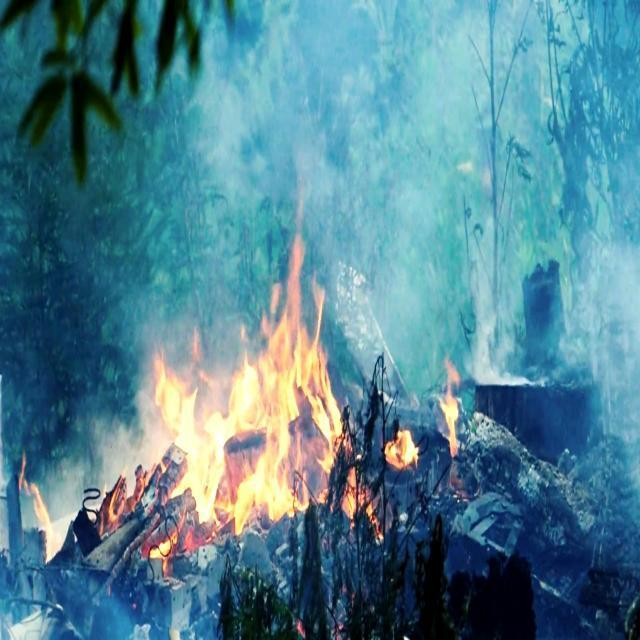Fire: (84, 253, 362, 559), (377, 420, 423, 480), (436, 376, 470, 454)
Smoke: (64, 0, 629, 372), (126, 0, 460, 322)
